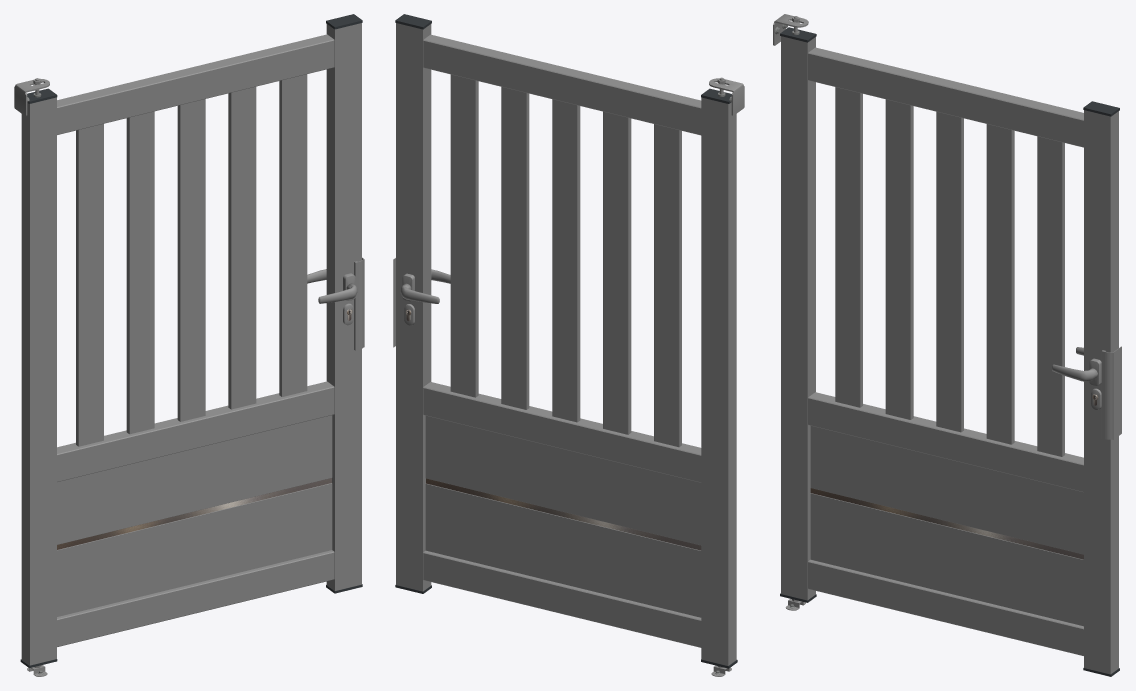
3 views of the same model, side by side, from view 1: azimuth 30°, elevation 25°; view 2: azimuth 150°, elevation 25°; view 3: azimuth 330°, elevation 25° (orthographic).
Visible parts, largest first — view 1: Shape107412643, Shape171, Shape172, Shape107412638, Shape164, Shape162, Shape147, Shape144, Shape146, Shape145, Shape143, Shape163 (+3 smaller); view 2: Shape107412643, Shape171, Shape107412638, Shape172, Shape164, Shape162, Shape147, Shape146, Shape144, Shape145, Shape143, Shape163 (+2 smaller); view 3: Shape171, Shape107412643, Shape107412638, Shape172, Shape164, Shape144, Shape146, Shape162, Shape143, Shape145, Shape147, Shape163 (+2 smaller).
Boxes of the visible parts, x1,y1,x2,y2 form: Shape107412643: [21, 97, 56, 665]; Shape171: [57, 483, 332, 616]; Shape172: [57, 415, 332, 544]; Shape107412638: [326, 23, 361, 590]; Shape164: [57, 34, 334, 134]; Shape162: [57, 381, 334, 481]; Shape147: [279, 74, 307, 396]; Shape144: [126, 111, 154, 434]; Shape146: [228, 86, 256, 409]; Shape145: [177, 99, 205, 421]; Shape143: [76, 124, 103, 446]; Shape163: [57, 550, 334, 646]; Shape107412643: [701, 97, 736, 665]; Shape171: [425, 483, 701, 617]; Shape107412638: [396, 23, 431, 591]; Shape172: [425, 415, 701, 545]; Shape164: [423, 34, 701, 135]; Shape162: [423, 382, 701, 482]; Shape147: [450, 74, 478, 397]; Shape146: [501, 87, 529, 409]; Shape144: [603, 111, 631, 434]; Shape145: [552, 99, 580, 422]; Shape143: [654, 124, 681, 447]; Shape163: [423, 550, 701, 647]; Shape171: [810, 493, 1083, 626]; Shape107412643: [781, 36, 815, 600]; Shape107412638: [1084, 110, 1118, 674]; Shape172: [810, 426, 1083, 554]; Shape164: [808, 47, 1083, 147]; Shape144: [885, 99, 913, 419]; Shape146: [986, 124, 1014, 444]; Shape162: [808, 392, 1083, 492]; Shape143: [835, 87, 862, 407]; Shape145: [936, 111, 963, 432]; Shape147: [1037, 136, 1064, 456]; Shape163: [808, 559, 1083, 655].
Bounding box in the file's own units: 1015 × 1688 × 152.
Materials: 7 (4 with a texture image).
